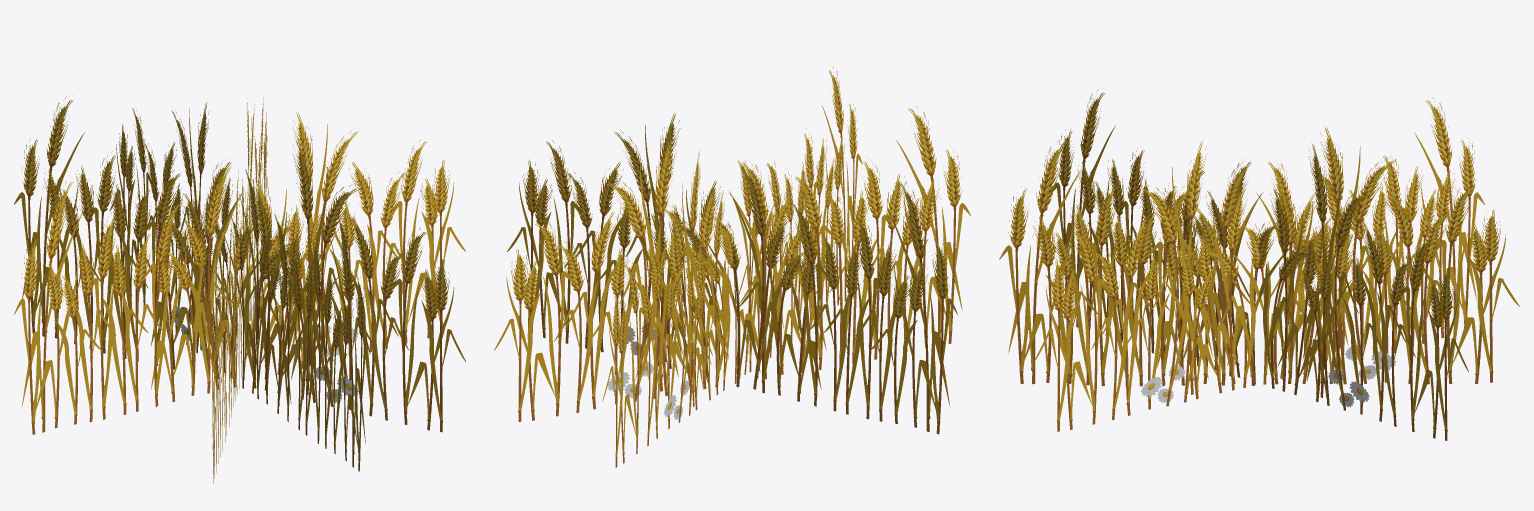
The model's file is FRM0110013.fbx.
3 views of the same model, side by side, from view 1: azimuth 30°, elevation 25°; view 2: azimuth 150°, elevation 25°; view 3: azimuth 270°, elevation 25° (orthographic).
Visible parts, largest first — view 1: smFRM0110013; view 2: smFRM0110013; view 3: smFRM0110013.
Part boxes in pixels (bbox=[...]): smFRM0110013: bbox=[14, 97, 465, 483]; smFRM0110013: bbox=[494, 66, 970, 467]; smFRM0110013: bbox=[999, 89, 1519, 440].
Size of the model in its own units: 106 by 59.06 by 106.
1 material, 1 textured.
